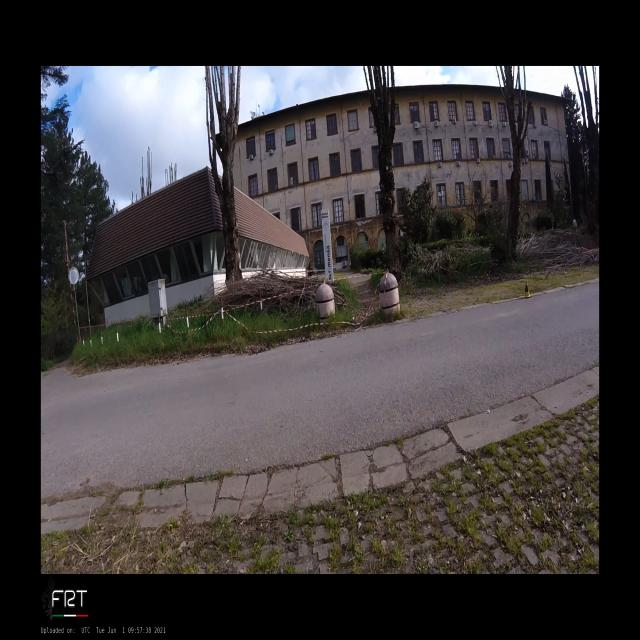yellow_cone: (524, 280, 530, 298)
